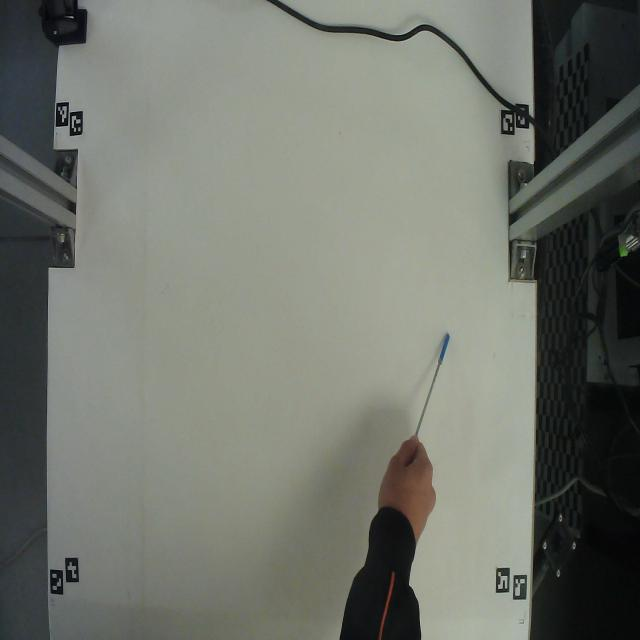Pres: (411, 314, 454, 446)
